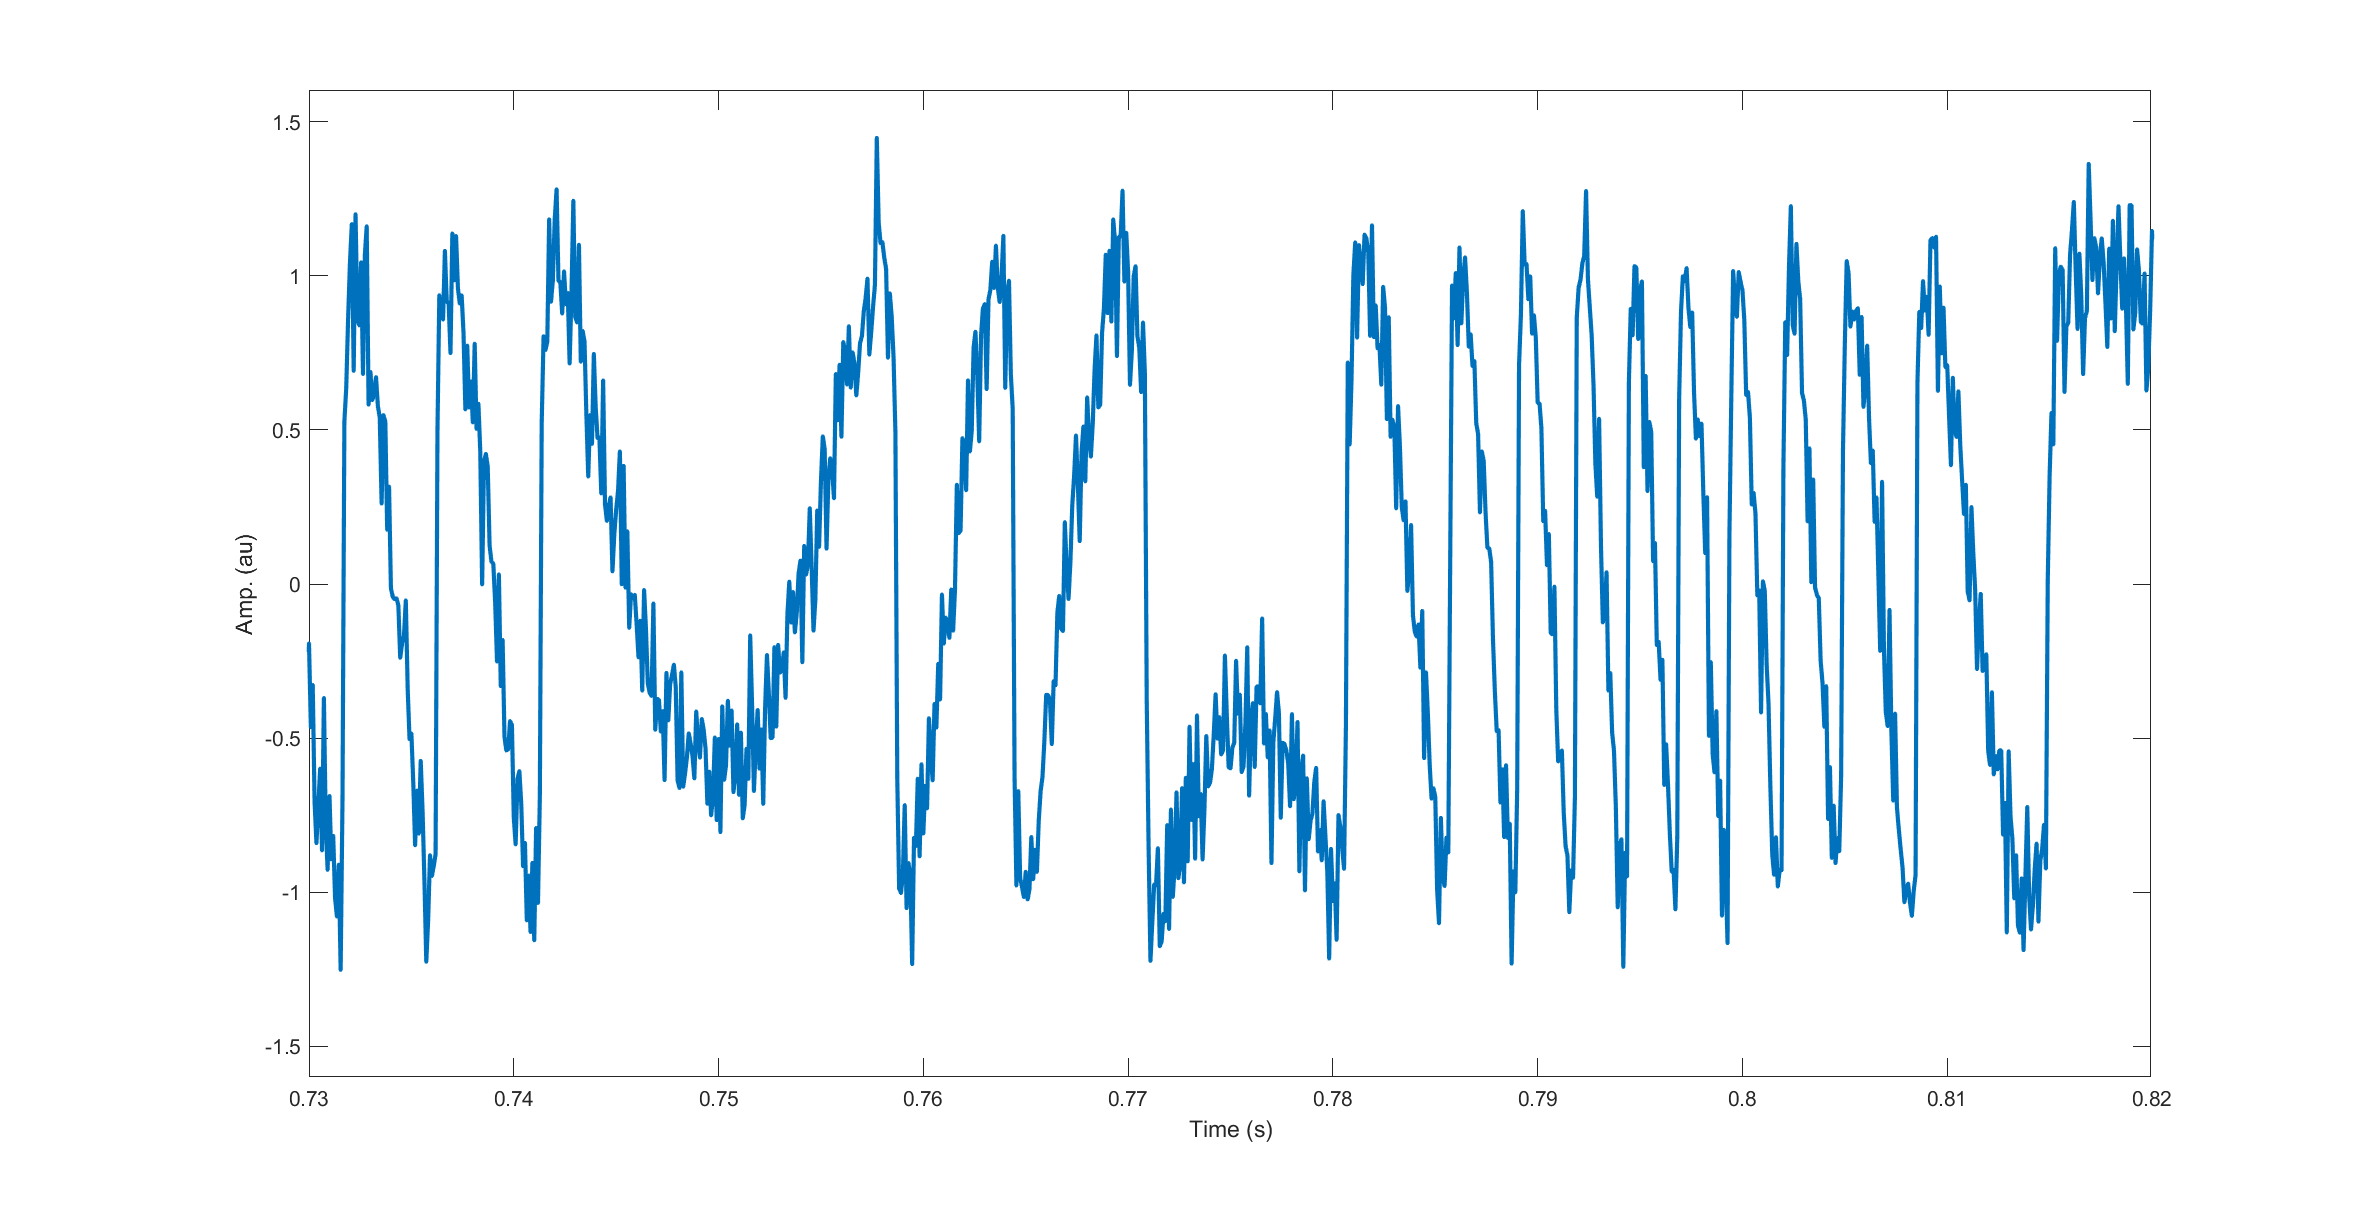negative_fringe: (528, 184, 633, 952), (330, 188, 424, 980), (1906, 225, 2015, 897), (424, 208, 523, 952), (1336, 204, 1431, 958), (1500, 194, 1563, 978), (1437, 239, 1505, 932), (1832, 255, 1893, 897), (1614, 245, 1667, 982), (1776, 187, 1830, 891), (1566, 187, 1613, 898), (1719, 272, 1764, 949), (1671, 248, 1710, 898)
positive_fringe: (1035, 177, 1164, 972), (914, 225, 1029, 965), (795, 120, 904, 894)
